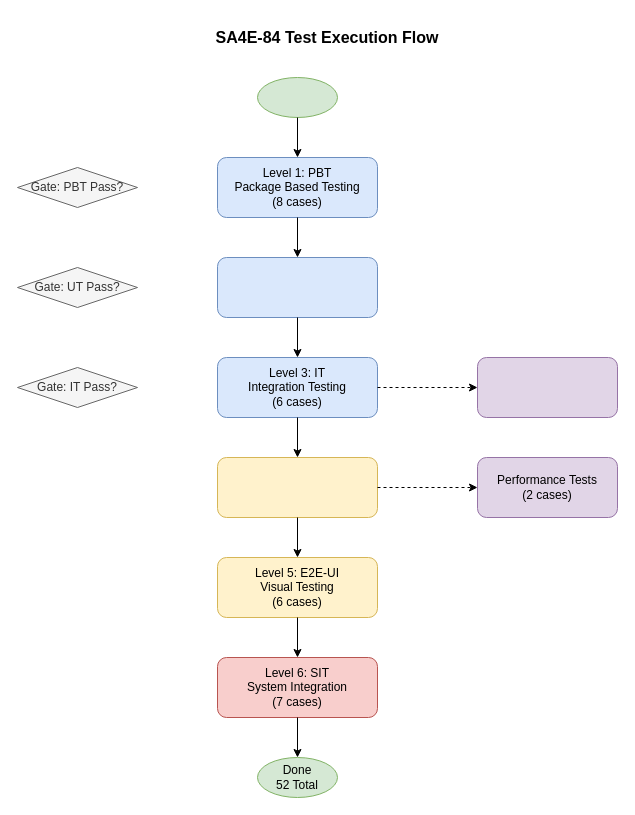
Image size: 635x815. Some labels were removed from this diagram. The centre of each missing label's shape, as x and y in pixels:
Error/Edge Cases (7 cases): [547,387]
Level 2: UT Unit Testing (9 cases): [297,287]
Level 4: E2E-API End-to-End API (7 cases): [297,487]
Start: [297,97]
